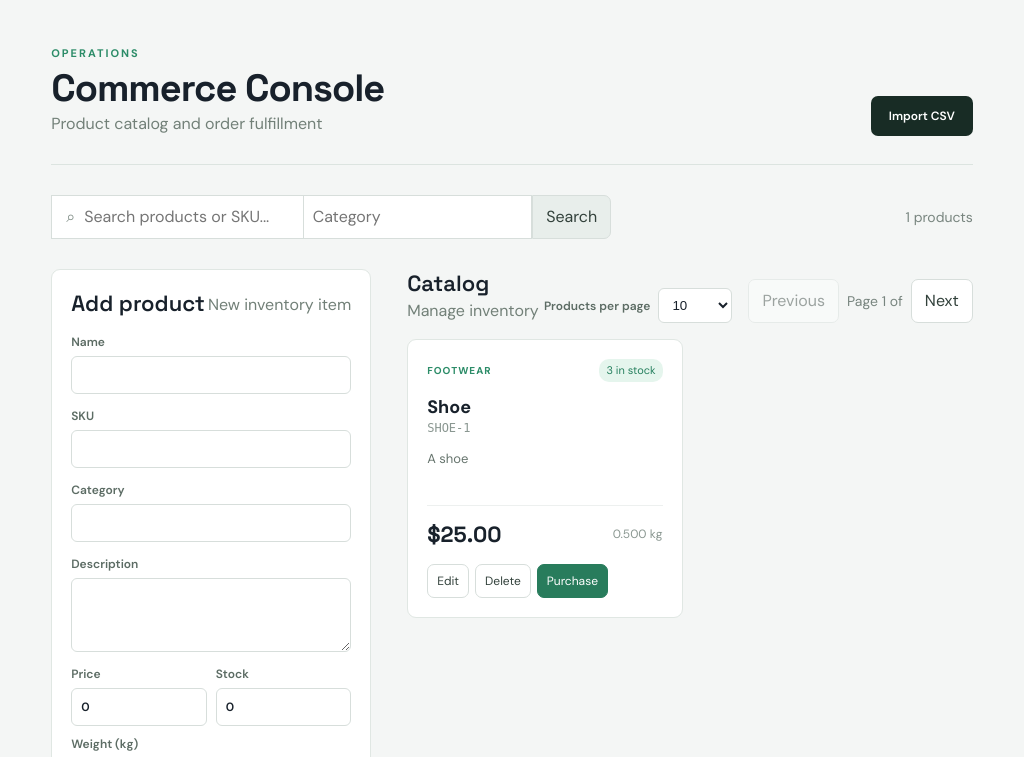
Commerce Console › loads paginated products and creates a product from the form
Expected: the heading "Shoe" is shown, top-left (427, 394), bottom-right (471, 418)
In the field labelled "Name": (211, 375) top-left (71, 356), bottom-right (351, 394), type "Boot"
In the field labelled "SKU": (211, 449) top-left (71, 430), bottom-right (351, 468), type "BOOT-1"
In the field labelled "Category" below "SKU": (211, 523) top-left (71, 504), bottom-right (351, 542), type "Footwear"
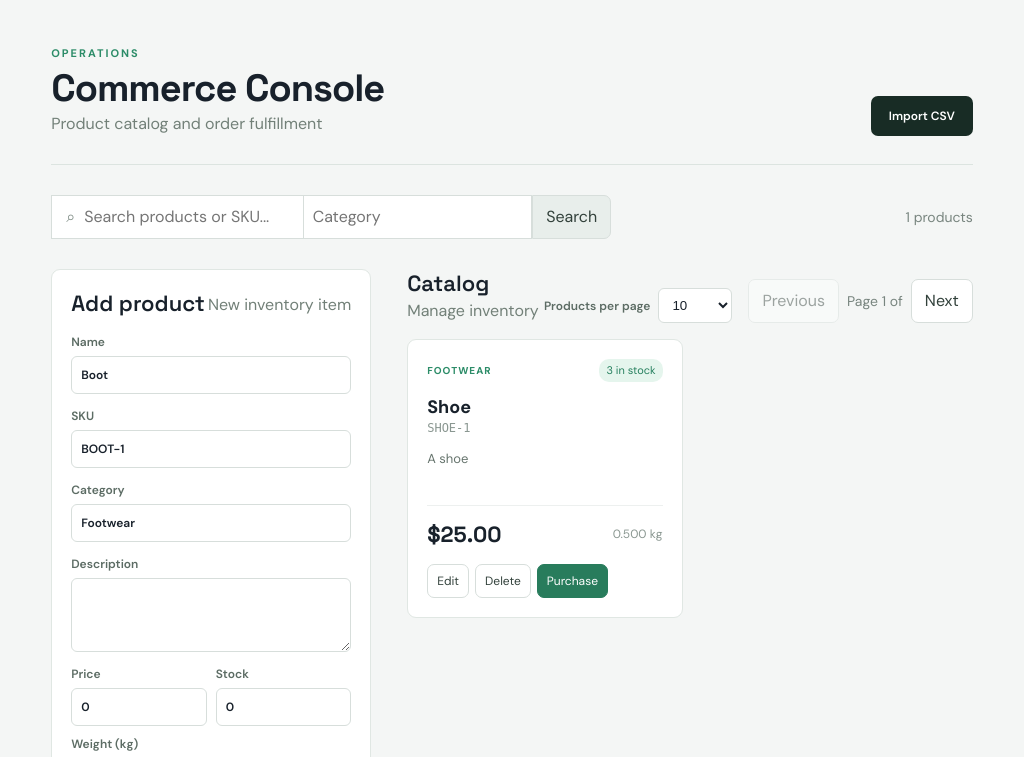
In the text box labelled "Description": (211, 615) top-left (71, 578), bottom-right (351, 652), type "A boot"
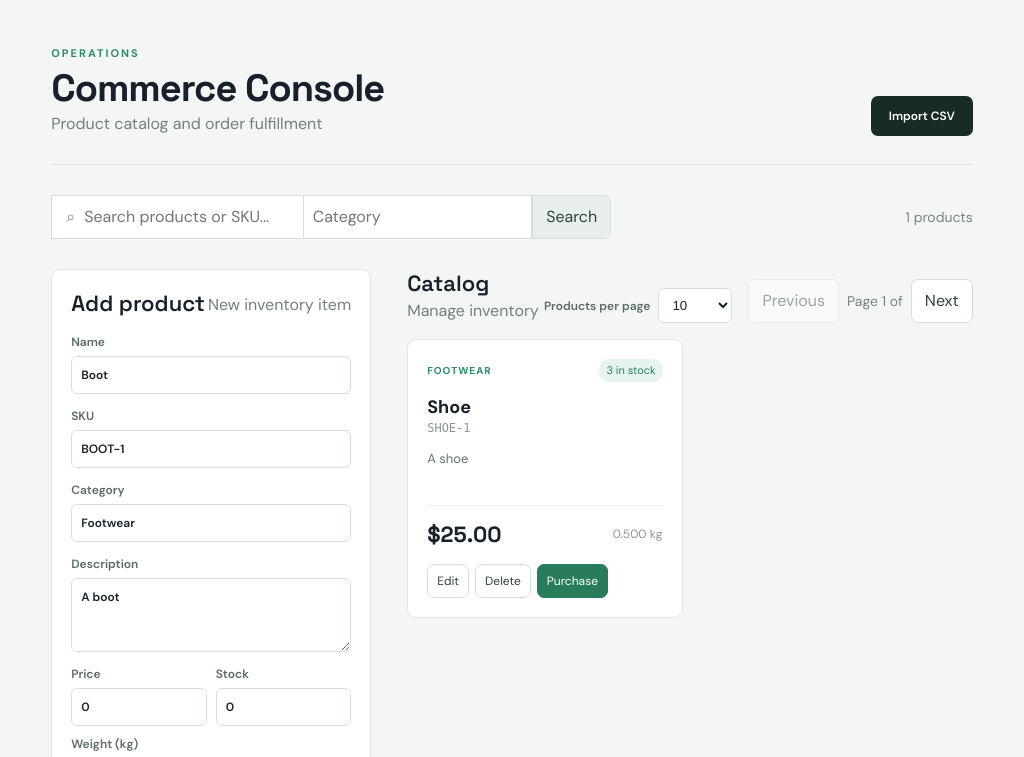
Replace the text in the number field labelled "Price" with "50": (139, 707) top-left (71, 688), bottom-right (207, 726)
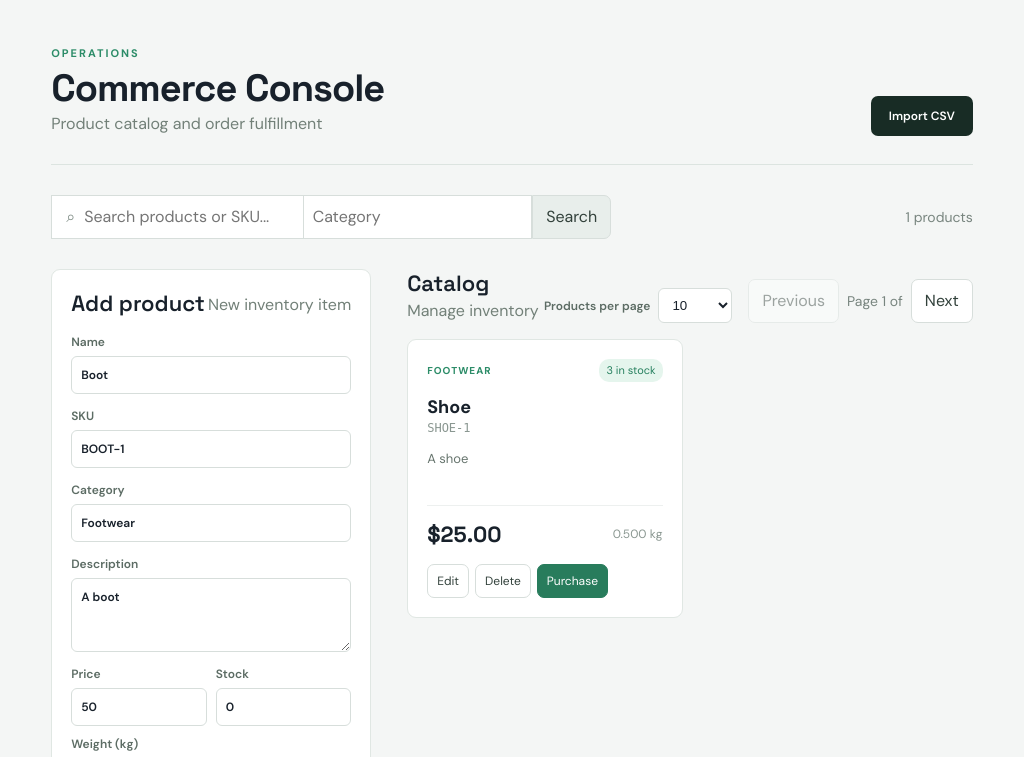
Replace the text in the number field labelled "Stock" with "2": (283, 707) top-left (216, 688), bottom-right (351, 726)
(page scrolled)
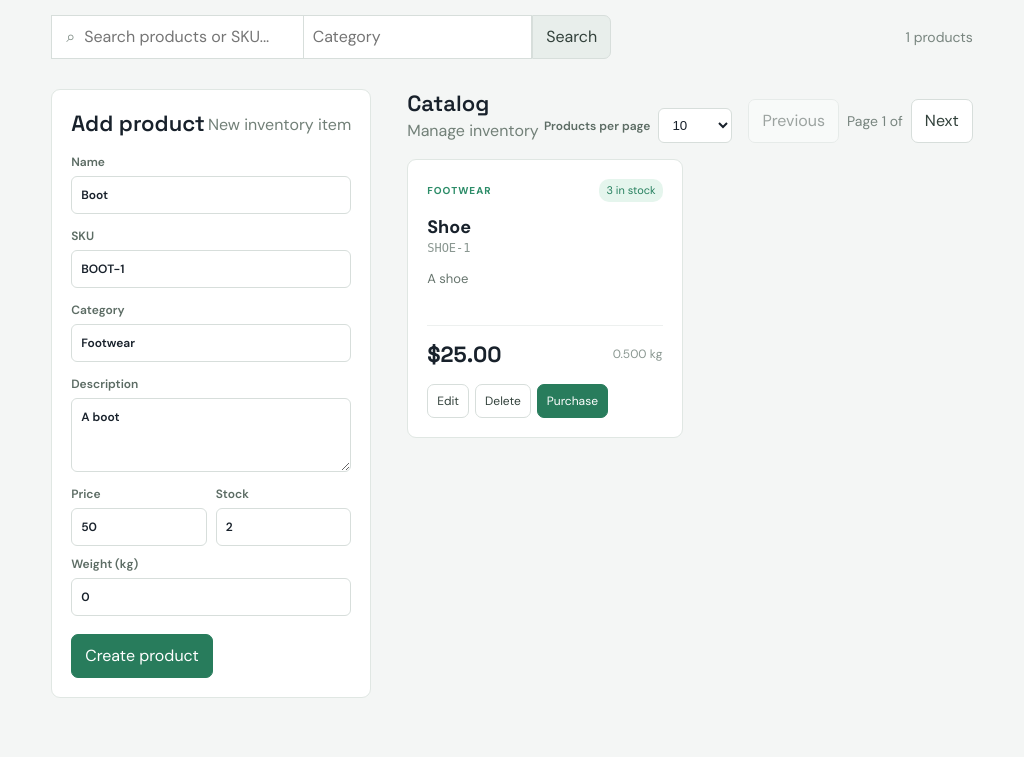
Replace the text in the number field labelled "Weight (kg)" with "0.8": (211, 597) top-left (71, 578), bottom-right (351, 616)
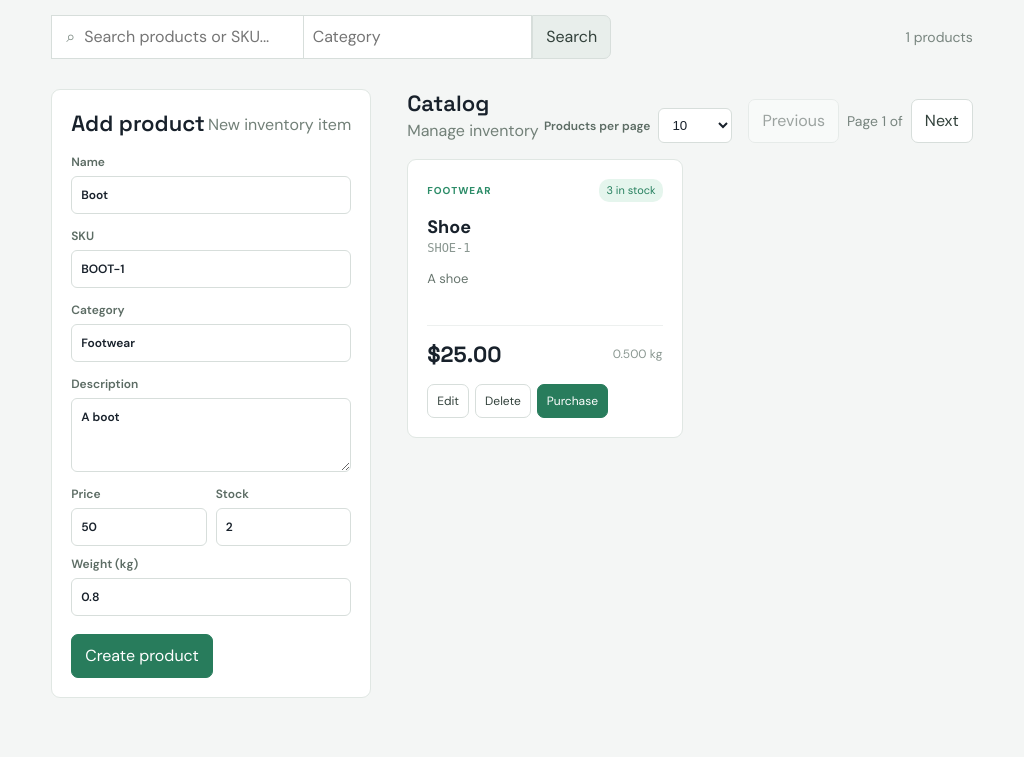
Click the button "Create product": (142, 656) top-left (71, 634), bottom-right (213, 678)
(page scrolled)
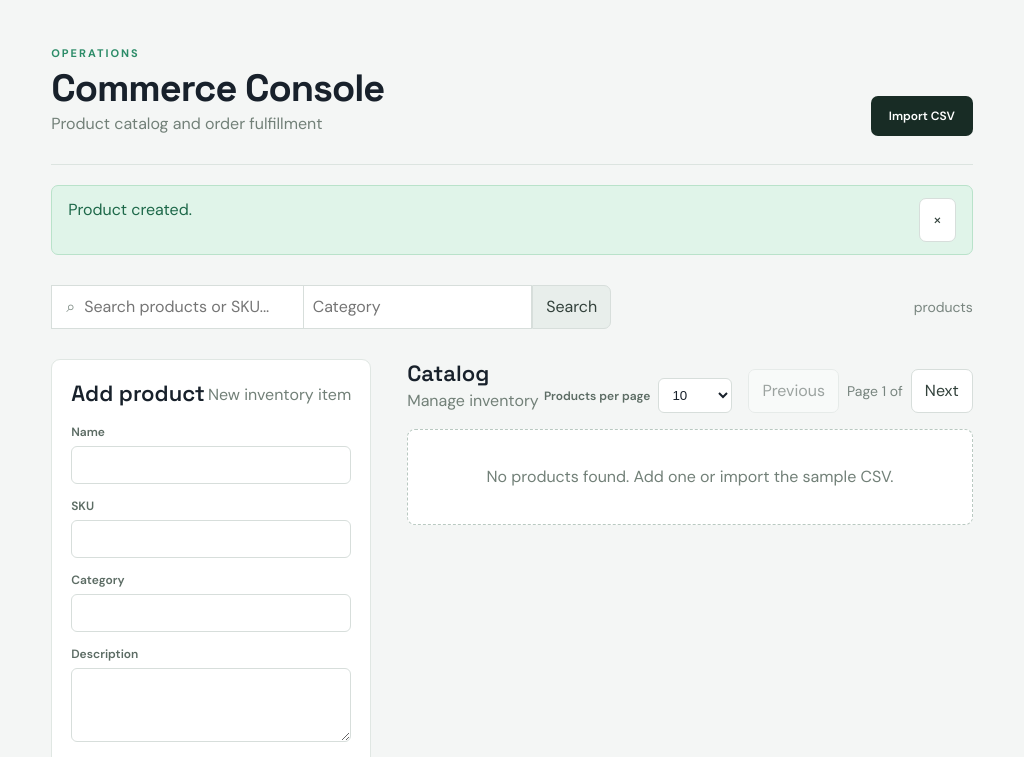
Expected: the text "Product created." is shown, top-left (68, 199), bottom-right (192, 220)
